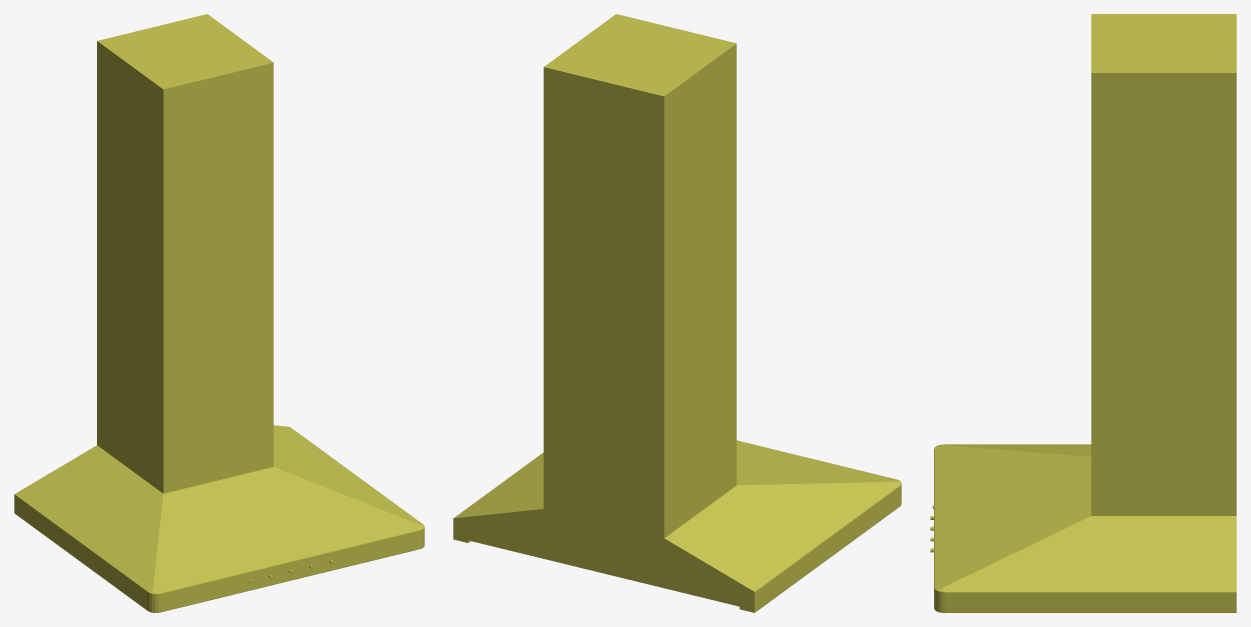
The model's file is eteks-hood.glb.
The picture shows the model from 3 angles, left to right: view 1: azimuth 30°, elevation 25°; view 2: azimuth 150°, elevation 25°; view 3: azimuth 270°, elevation 25°; orthographic projection. The views are drawn at different scales.
Visible parts, largest first — view 1: Chimney, Hood; view 2: Chimney, Hood; view 3: Chimney, Hood.
Boxes of the visible parts, x1,y1,x2,y2 form: Chimney: (97,14,273,493); Hood: (14,425,424,612); Chimney: (543,14,736,538); Hood: (453,440,901,612); Chimney: (1091,14,1236,515); Hood: (934,444,1236,612).
Size of the model in its own units: 60 by 94 by 52.64.
